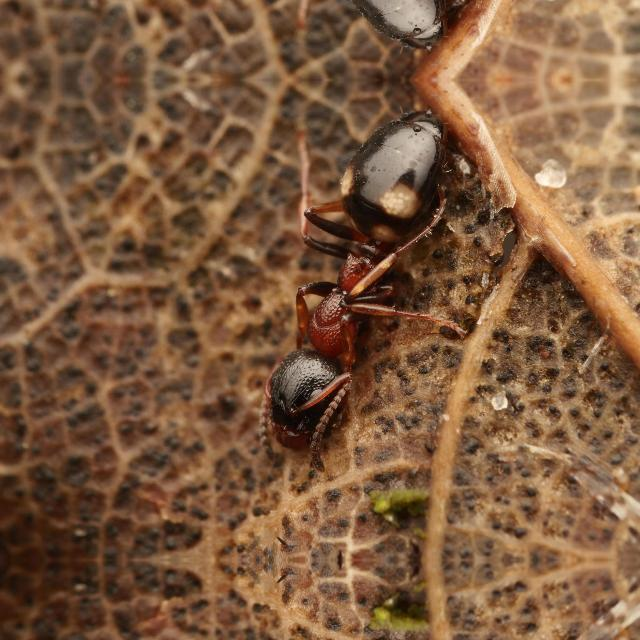Dolichoderus: (193, 92, 484, 472)
